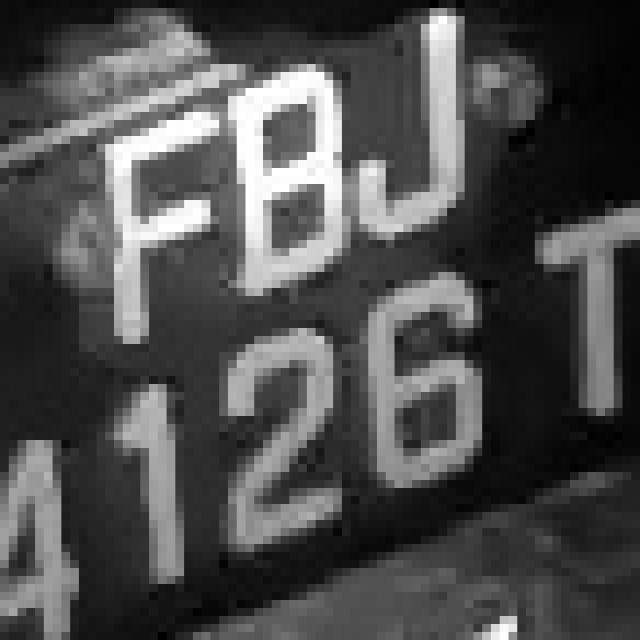1: (105, 368, 202, 616)
2: (193, 320, 368, 552)
4: (0, 5, 2, 8)
6: (360, 280, 482, 520)
B: (202, 64, 368, 304)
F: (61, 80, 210, 336)
J: (359, 8, 491, 248)
T: (7, 2, 9, 6)
